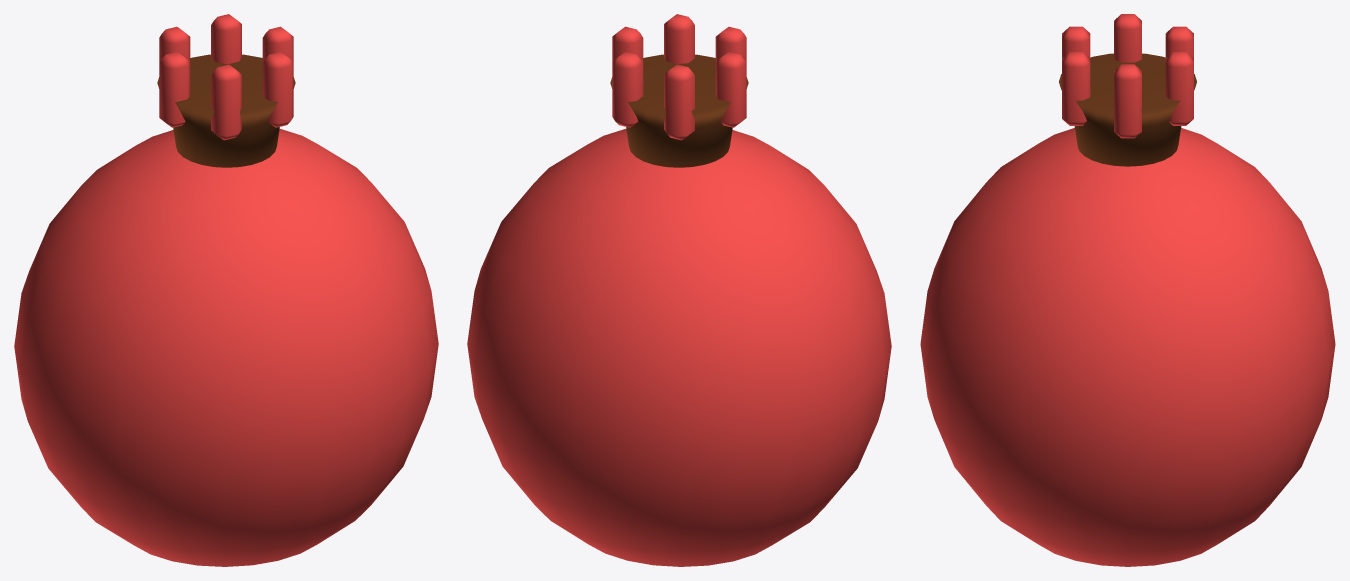
The model's file is pomegranate.glb.
3 renders of one model, left to right at view 1: azimuth 30°, elevation 25°; view 2: azimuth 150°, elevation 25°; view 3: azimuth 270°, elevation 25°, orthographic.
Visible parts, largest first — view 1: pomegranate; view 2: pomegranate; view 3: pomegranate.
Part boxes in pixels (box(x1,y1,x2,y2)): pomegranate: box(14, 14, 438, 566); pomegranate: box(467, 14, 891, 566); pomegranate: box(920, 14, 1335, 566).
Bounding box in the file's own units: 0.764 × 1 × 0.7416.
Materials: 1 (1 with a texture image).
